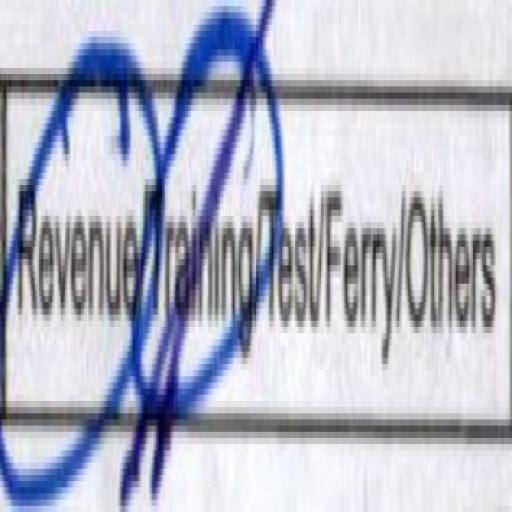check: (0, 12, 136, 512), (139, 6, 260, 512)
